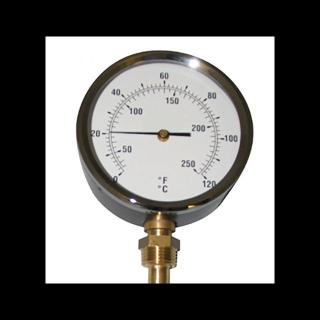gauge: (75, 44, 257, 220), (185, 159, 211, 187), (109, 163, 131, 185), (156, 128, 170, 142), (106, 128, 116, 136)
